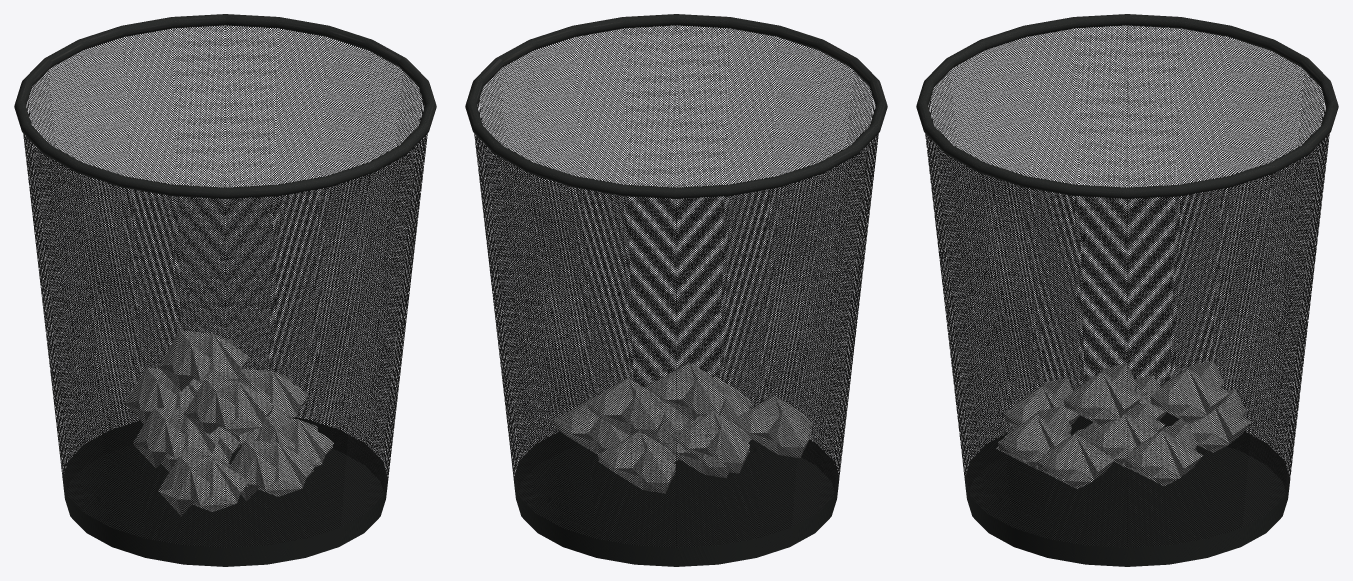
File: Bin.fbx
The picture shows the model from 3 angles, left to right: view 1: azimuth 30°, elevation 25°; view 2: azimuth 150°, elevation 25°; view 3: azimuth 270°, elevation 25°; orthographic projection.
Parts seen in each view (by area): view 1: Group1, Group2; view 2: Group1, Group2; view 3: Group1, Group2.
Part boxes in pixels (box(x1,y1,x2,y2)): Group1: box(14, 14, 436, 566); Group2: box(125, 331, 333, 516); Group1: box(465, 14, 887, 566); Group2: box(553, 362, 812, 493); Group1: box(916, 14, 1338, 566); Group2: box(996, 360, 1251, 488).
Size of the model in its own units: 283 by 295 by 283.
